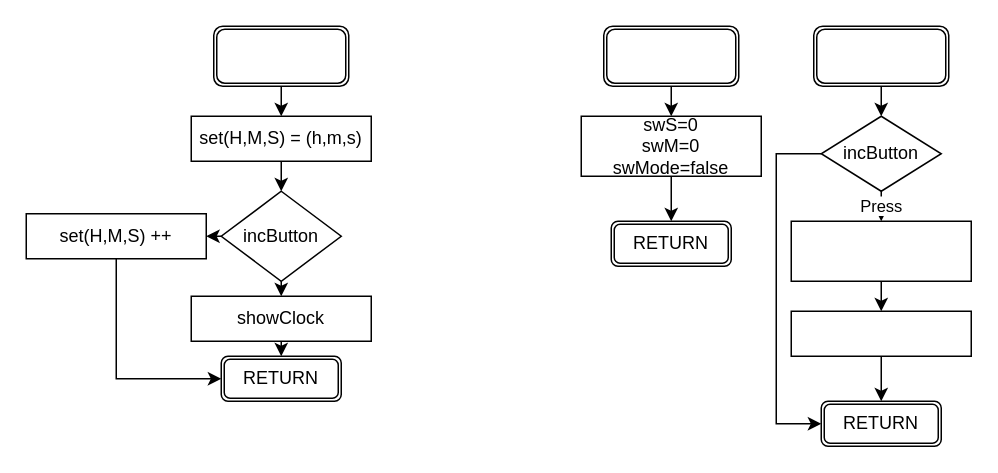
This 998x473 diagram has some shape labels left out. Each missing label, with the box of its shape:
showClock (swS,swM): (790, 310, 971, 356)
State (2,3,4): (212, 25, 349, 86)
State 5: (602, 25, 739, 86)
State 6: (812, 25, 949, 86)
swMode = ! swMode: (790, 220, 971, 281)
